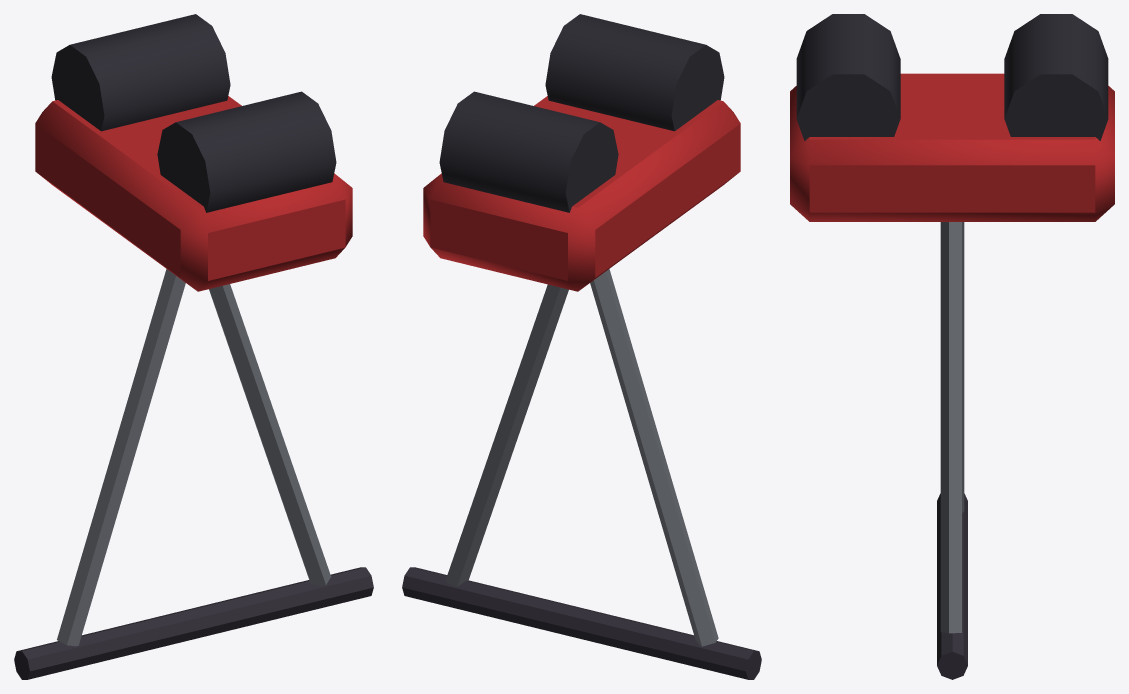
The model's file is zip_handle.glb.
3 views of the same model, side by side, from view 1: azimuth 30°, elevation 25°; view 2: azimuth 150°, elevation 25°; view 3: azimuth 270°, elevation 25° (orthographic).
Visible parts, largest first — view 1: zip_handle; view 2: zip_handle; view 3: zip_handle.
Boxes of the visible parts, bbox=[...] form: zip_handle: bbox=[14, 14, 373, 679]; zip_handle: bbox=[402, 14, 761, 679]; zip_handle: bbox=[790, 14, 1114, 679].
Size of the model in its own units: 0.6 by 0.9401 by 0.5.
